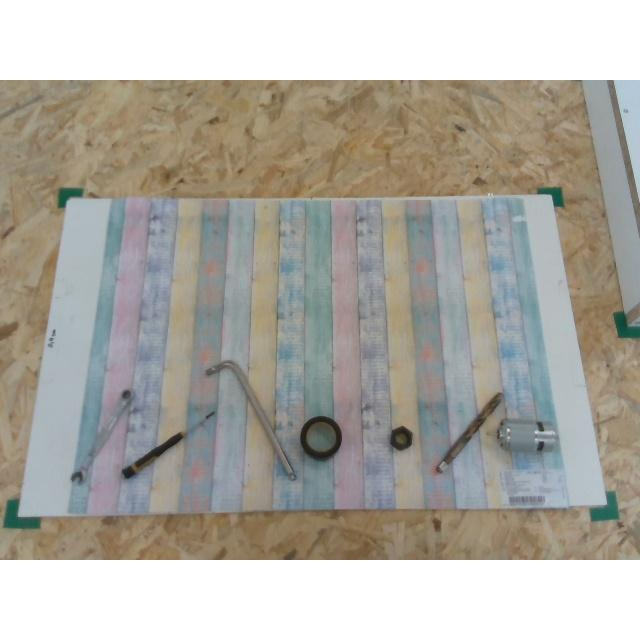AllenKey: (204, 360, 296, 480)
Drill: (434, 392, 502, 472)
M20: (389, 426, 411, 450)
Motor2: (486, 417, 558, 451)
Wrench: (68, 391, 132, 482)
